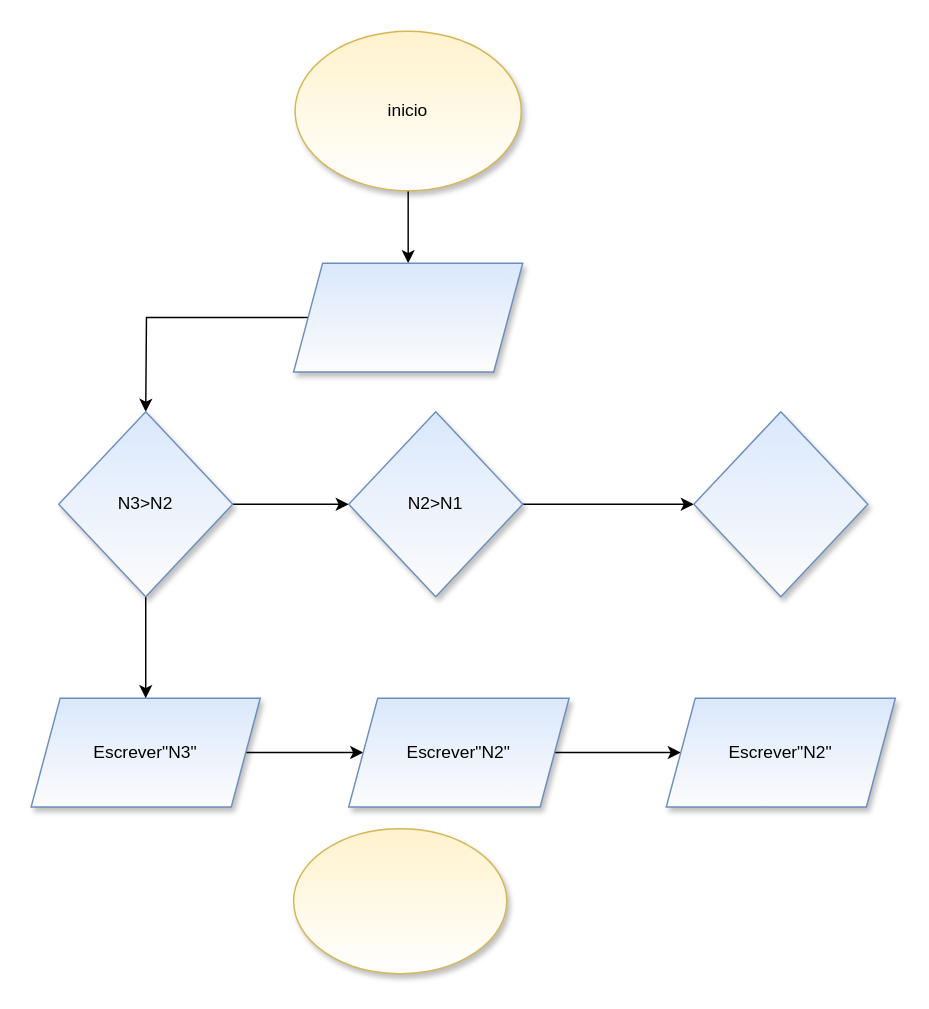
Some shapes in this 929 by 1009 pixel diagram are drawn without their labels. The shapes that lost their labels are listed below. From the top down, each one's centre as x and y in pixels, then its label:
At (408,319): "ler N1,N2,N3".
At (782,506): "N1<".
At (400,902): "FIM".
